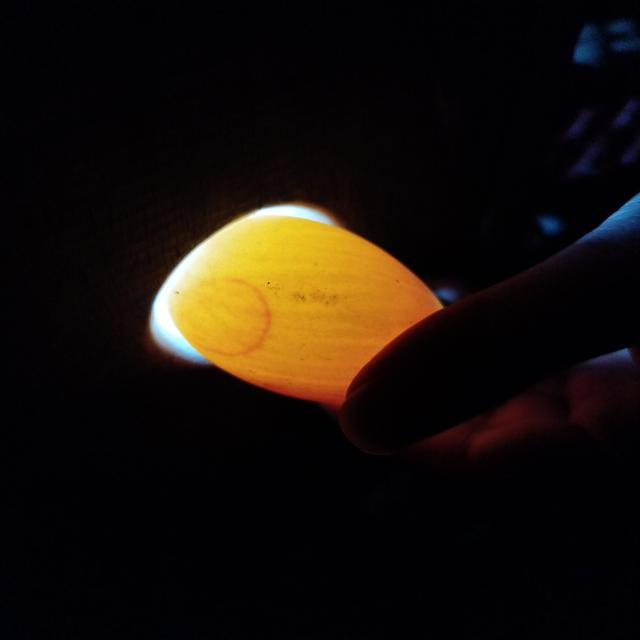Gema Quebrada: (226, 371, 349, 404)
